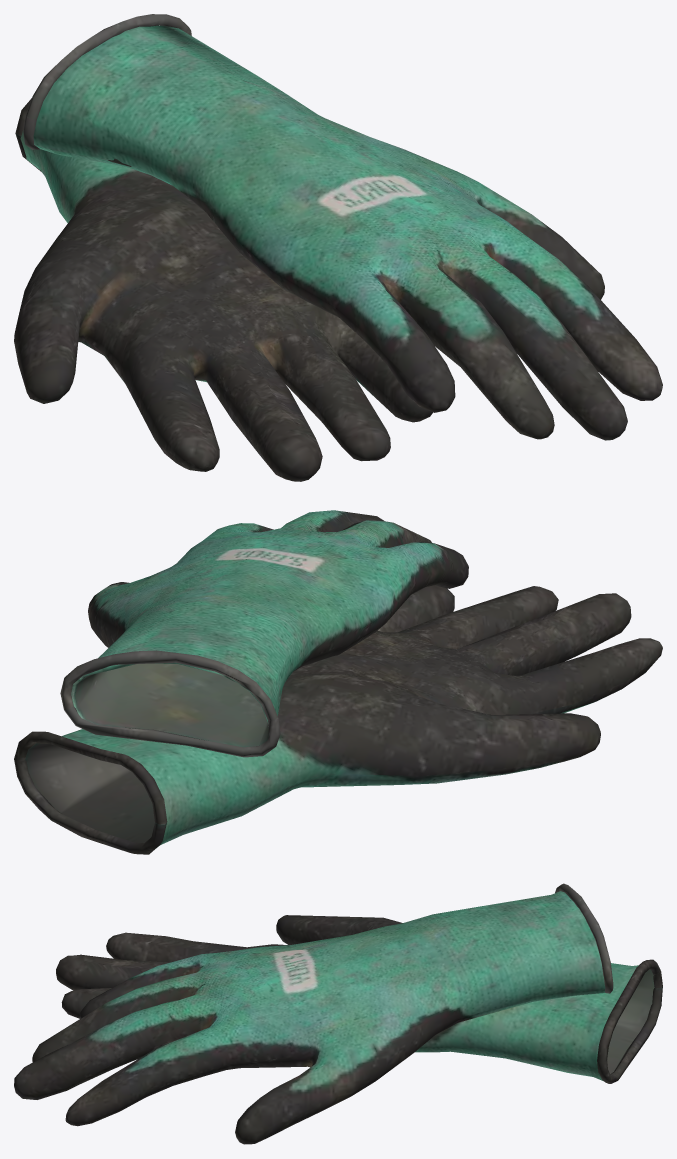
Rendered from garden_gloves_01.glb.
3 renders of one model, top to bottom at view 1: azimuth 30°, elevation 25°; view 2: azimuth 150°, elevation 25°; view 3: azimuth 270°, elevation 25°, orthographic. The views are drawn at different scales.
Parts seen in each view (by area): view 1: garden_gloves_01; view 2: garden_gloves_01; view 3: garden_gloves_01.
Boxes of the visible parts, <box> form: garden_gloves_01: <box>14,14,662,481</box>; garden_gloves_01: <box>14,510,662,854</box>; garden_gloves_01: <box>14,883,662,1144</box>.
Size of the model in its own units: 0.2261 by 0.0757 by 0.2988.
Materials: 1 (1 with a texture image).
